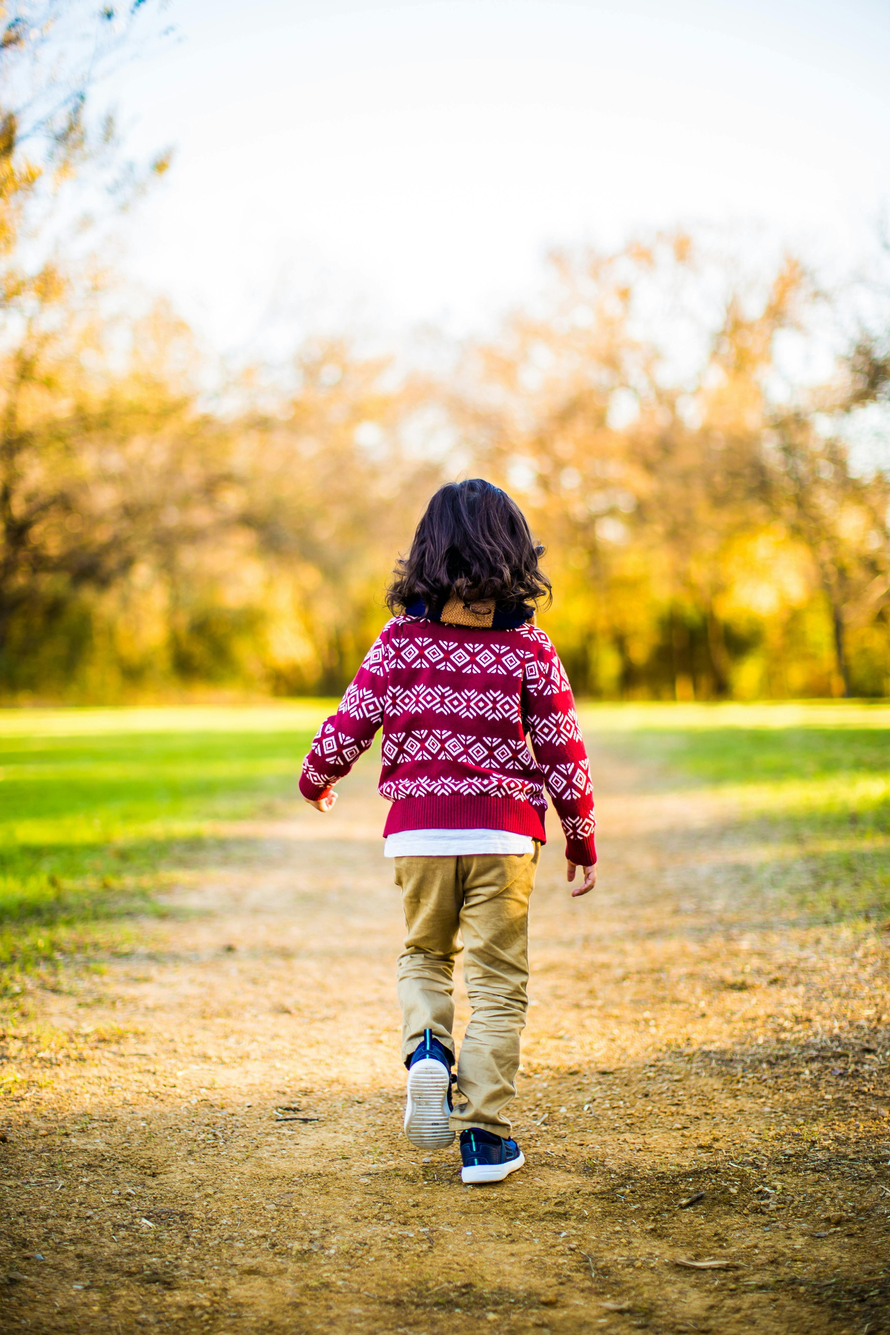Human: (343, 442, 596, 1229)
